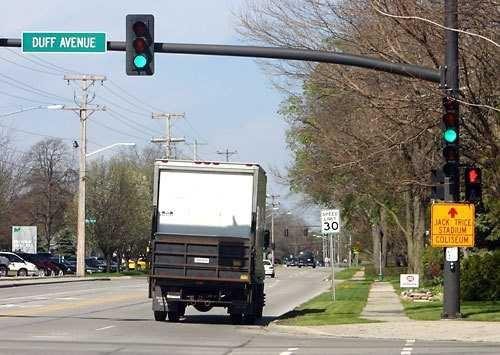green: (126, 14, 155, 77), (443, 94, 461, 176), (126, 54, 154, 74), (441, 128, 459, 145)
red: (467, 165, 481, 184)
